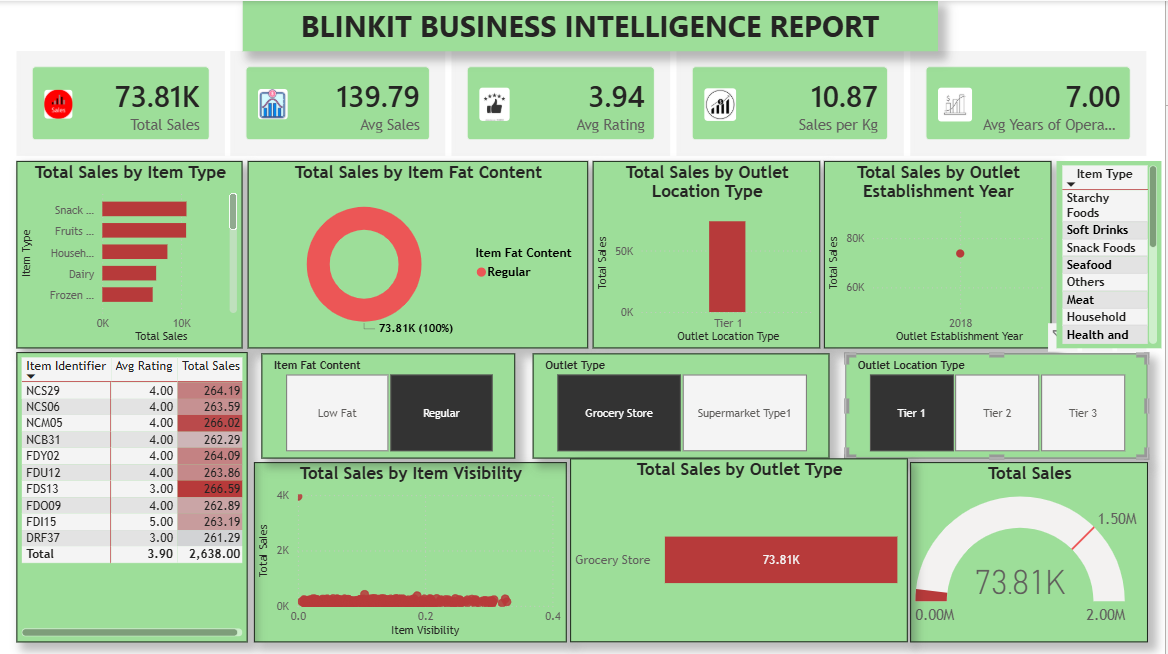

The page's visual inventory and layout, read from the dashboard file:
{"tool":"powerbi","page":{"name":"Blinkit Business Report","canvas":[1280,720],"ordinal":0},"visuals":[{"type":"cardVisual","fields":{"Data":["FactSales.Total Sales"]},"box":[19.2,55.3,229.2,115.3],"z":0},{"type":"cardVisual","fields":{"Data":["FactSales.Avg Sales"]},"box":[253.9,55.3,236,115.3],"z":1000},{"type":"cardVisual","fields":{"Data":["FactSales.Avg Rating"]},"box":[496.7,55.3,240.1,115.3],"z":2000},{"type":"cardVisual","fields":{"Data":["FactSales.Sales per Kg"]},"box":[743.7,55.3,249.7,115.3],"z":3000},{"type":"cardVisual","fields":{"Data":["FactSales.Avg Years of Operation"]},"box":[1000.3,55.3,259.3,115.3],"z":4000},{"type":"clusteredBarChart","fields":{"Category":["DimItems.Item Type"],"Y":["FactSales.Total Sales"]},"box":[19.2,175.6,248.4,205.8],"z":5000},{"type":"donutChart","fields":{"Category":["DimItemContent.Item Fat Content"],"Y":["FactSales.Total Sales"]},"box":[273.1,175.6,373.2,205.8],"z":6000},{"type":"clusteredColumnChart","fields":{"Category":["DimOutletLocation.Outlet Location Type"],"Y":["FactSales.Total Sales"]},"box":[651.8,175.6,249.7,205.8],"z":7000},{"type":"lineChart","fields":{"Category":["DimOutlets.Outlet Establishment Year"],"Y":["FactSales.Total Sales"]},"box":[905.7,175.6,249.7,205.8],"z":8000},{"type":"scatterChart","fields":{"X":["FactSales.Item Visibility"],"Y":["FactSales.Total Sales"]},"box":[279.9,506.3,343.1,197.6],"z":9000},{"type":"pivotTable","fields":{"Rows":["FactSales.Item Identifier"],"Values":["FactSales.Avg Rating","FactSales.Total Sales"]},"box":[19.2,385.6,253.9,318.4],"z":10000},{"type":"slicer","fields":{"Values":["DimOutletLocation.Outlet Location Type"]},"box":[929,387,332.1,115.3],"z":11000},{"type":"slicer","fields":{"Values":["DimOutlets.Outlet Type"]},"box":[585.9,387,325.2,115.3],"z":12000},{"type":"slicer","fields":{"Values":["DimItemContent.Item Fat Content"]},"box":[288.2,387,278.6,115.3],"z":13000},{"type":"tableEx","fields":{"Values":["DimItems.Item Type"]},"box":[1160.9,175.6,115.3,205.8],"z":14000},{"type":"gauge","fields":{"Y":["FactSales.Total Sales"]},"box":[1000.3,506.3,260.7,197.6],"z":15000},{"type":"funnel","fields":{"Category":["DimOutlets.Outlet Type"],"Y":["FactSales.Total Sales"]},"box":[627.1,502.2,370.5,201.7],"z":16000},{"type":"textbox","box":[267.6,0,763,54.9],"z":17000}]}

Visuals, with their boxes in screenshot pixels (x1, y1, x2, y2), scaled from the page's 1280x720 canvas onto the 1168x654 screenshot:
cardVisual - FactSales.Total Sales: [18,50,227,155]
cardVisual - FactSales.Avg Sales: [232,50,447,155]
cardVisual - FactSales.Avg Rating: [453,50,672,155]
cardVisual - FactSales.Sales per Kg: [679,50,906,155]
cardVisual - FactSales.Avg Years of Operation: [913,50,1149,155]
clusteredBarChart - DimItems.Item Type x FactSales.Total Sales: [18,160,244,346]
donutChart - DimItemContent.Item Fat Content x FactSales.Total Sales: [249,160,590,346]
clusteredColumnChart - DimOutletLocation.Outlet Location Type x FactSales.Total Sales: [595,160,823,346]
lineChart - DimOutlets.Outlet Establishment Year x FactSales.Total Sales: [826,160,1054,346]
scatterChart - FactSales.Item Visibility x FactSales.Total Sales: [255,460,568,639]
pivotTable - FactSales.Item Identifier x FactSales.Avg Rating: [18,350,249,639]
slicer - DimOutletLocation.Outlet Location Type: [848,352,1151,456]
slicer - DimOutlets.Outlet Type: [535,352,831,456]
slicer - DimItemContent.Item Fat Content: [263,352,517,456]
tableEx - DimItems.Item Type: [1059,160,1165,346]
gauge - FactSales.Total Sales: [913,460,1151,639]
funnel - DimOutlets.Outlet Type x FactSales.Total Sales: [572,456,910,639]
textbox: [244,0,940,50]
